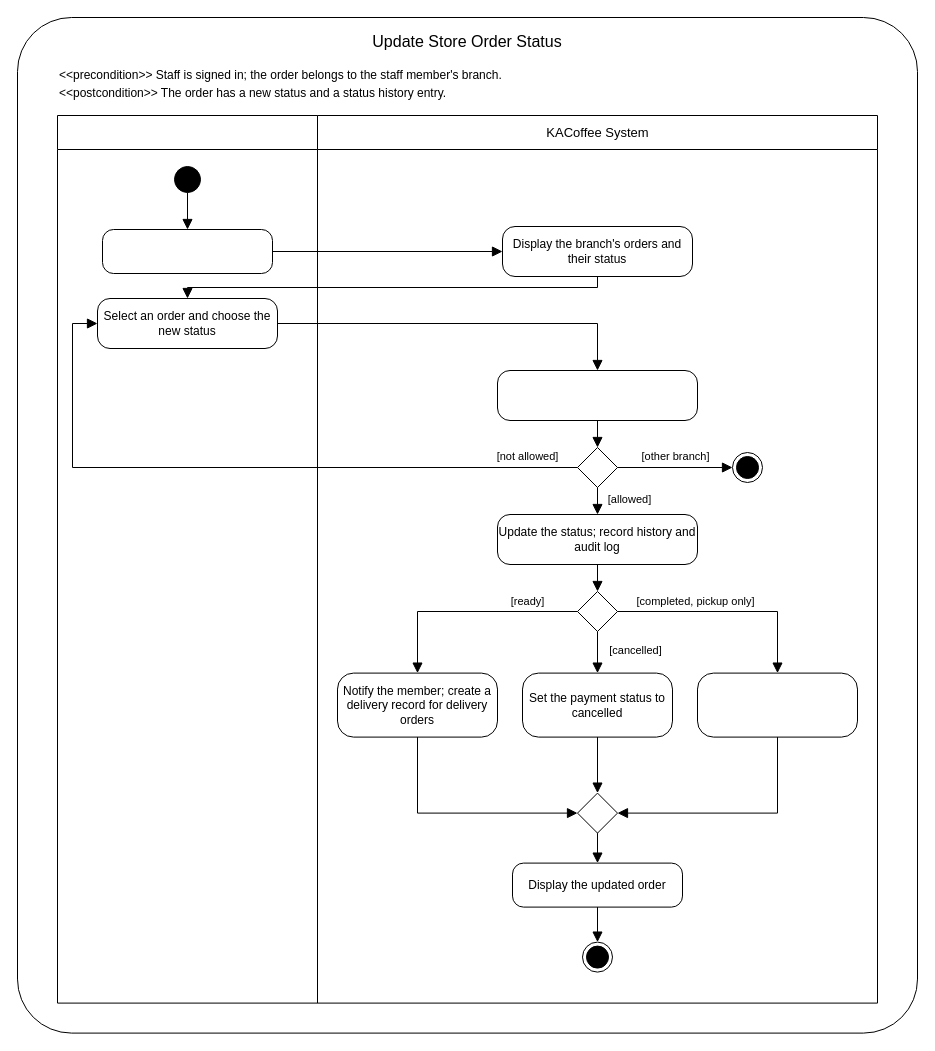
The diagram is 935 pixels wide and 1051 high, and some of its shapes have lost their labels. Here are the shapes that lost their labels. From the top down, the box of each, then its label:
(102, 228, 272, 274): Open the order status screen
(496, 370, 698, 420): Check the branch and that the transition is allowed
(56, 114, 318, 1003): Staff
(696, 672, 858, 737): Record payment as paid; award member points (UC025)
